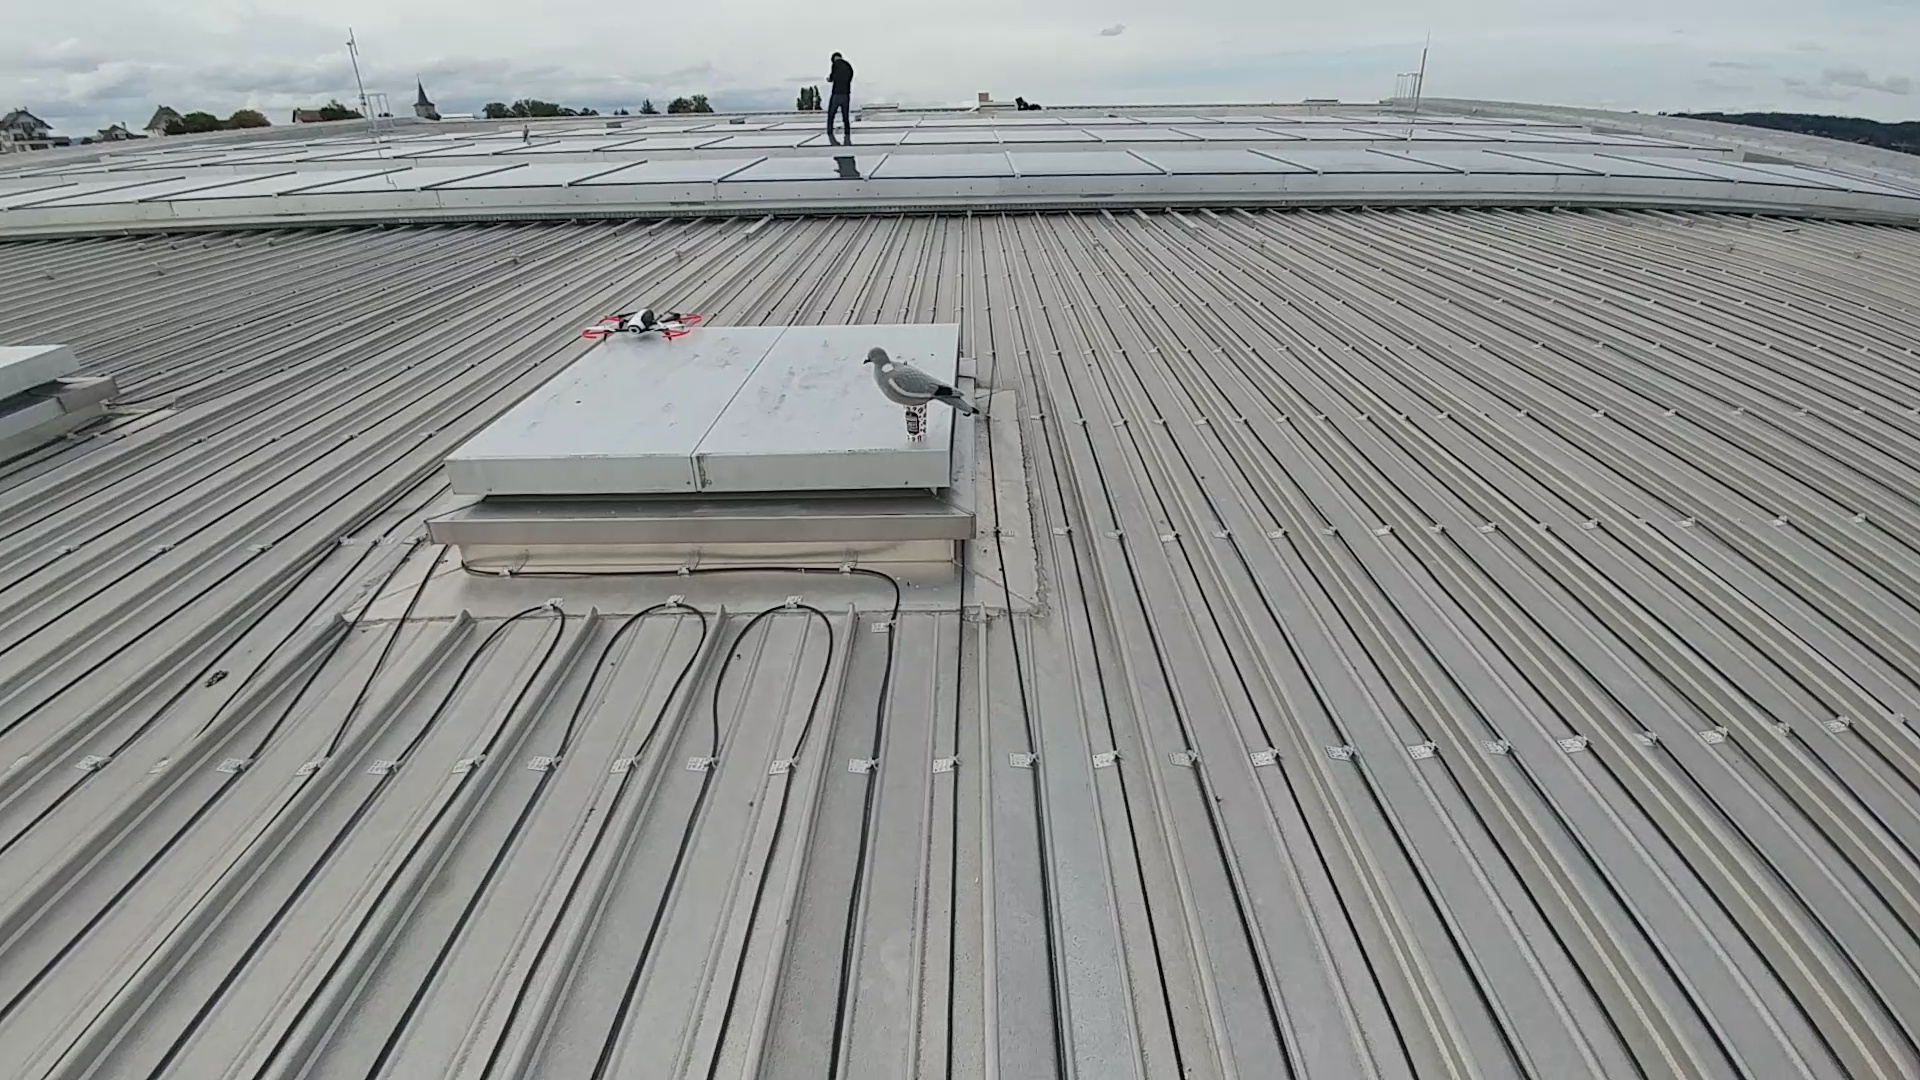Pigeon: (860, 349, 989, 407)
